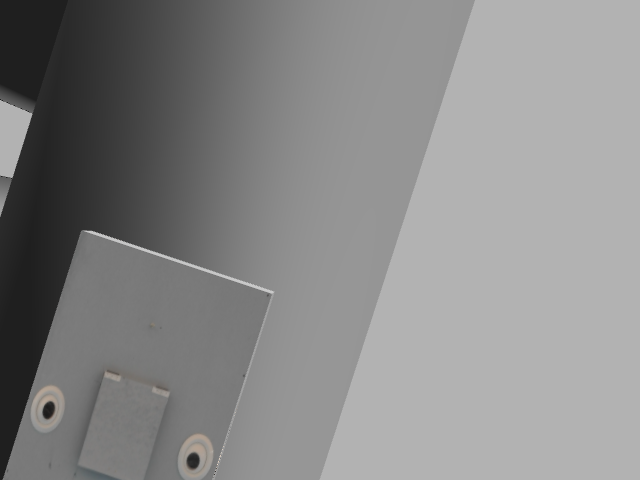facade: (27, 365, 215, 478)
